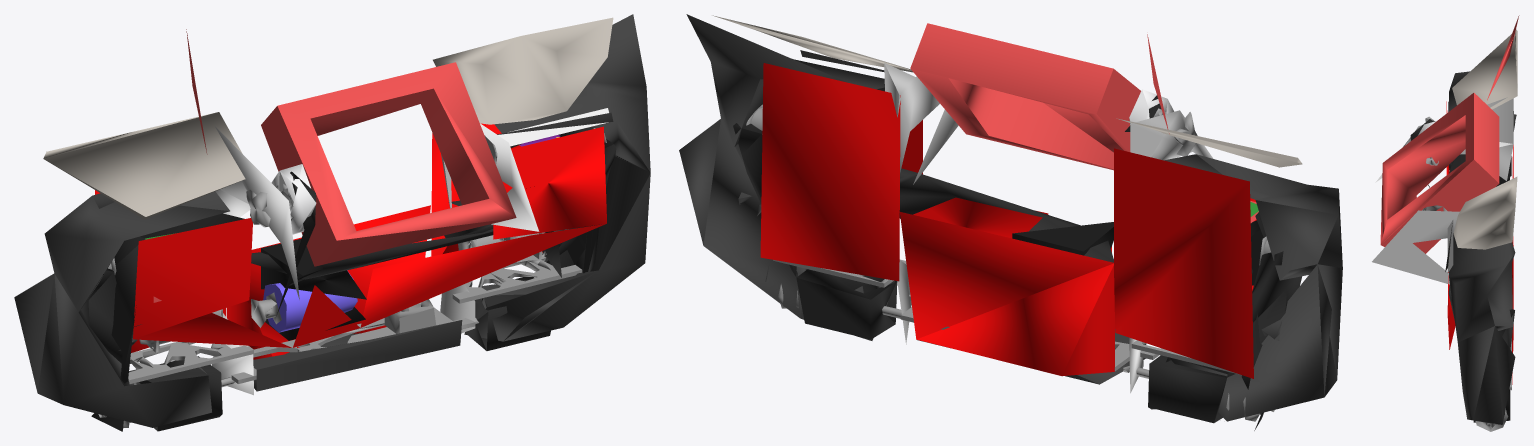
File: model-lite.lod0.glb
3 renders of one model, left to right at view 1: azimuth 30°, elevation 25°; view 2: azimuth 150°, elevation 25°; view 3: azimuth 270°, elevation 25°, orthographic. The views are drawn at different scales.
Visible parts, largest first — view 1: Body1:22, Body1:147, Body2:47, Body1:13, Body1:4, Body1:15, Body1:148, Body2:11, Body1:1, Body1:3, Body1:11, Body8:5; view 2: Body1:147, Body1:22, Body1:13, Body2:11, Body1:148, Body1:15, Body1:4, Body2:47, Body1:1, Body1:11; view 3: Body1:13, Body1:22, Body2:47, Body1:148, Body1:147, Body2:11, Body1:4, Body1:15, Body8:5.
Part boxes in pixels (box(x1,y1,x2,y2)): Body1:22: box(14, 14, 650, 427); Body1:147: box(95, 123, 606, 359); Body2:47: box(43, 17, 613, 219); Body1:13: box(153, 29, 516, 302); Body1:4: box(98, 127, 606, 428); Body1:15: box(91, 112, 613, 431); Body1:148: box(212, 123, 539, 395); Body2:11: box(81, 139, 616, 431); Body1:1: box(140, 125, 522, 340); Body1:3: box(263, 270, 357, 332); Body1:11: box(271, 164, 316, 234); Body8:5: box(498, 108, 608, 146); Body1:147: box(760, 63, 1256, 378); Body1:22: box(679, 14, 1342, 421); Body1:13: box(910, 23, 1258, 222); Body2:11: box(733, 95, 1301, 423); Body1:148: box(884, 63, 1213, 393); Body1:15: box(765, 50, 1266, 430); Body1:4: box(746, 104, 1274, 421); Body2:47: box(712, 15, 1302, 167); Body1:1: box(877, 87, 1263, 285); Body1:11: box(1129, 89, 1173, 124); Body1:13: box(1380, 15, 1519, 253); Body1:22: box(1449, 71, 1516, 424); Body2:47: box(1452, 29, 1517, 249); Body1:148: box(1372, 97, 1513, 284); Body1:147: box(1446, 101, 1513, 384); Body2:11: box(1410, 111, 1514, 422); Body1:4: box(1422, 116, 1511, 431); Body1:15: box(1445, 154, 1511, 414); Body8:5: box(1447, 220, 1453, 273).
Bounding box in the file's own units: 50.29 × 29.14 × 13.39.
